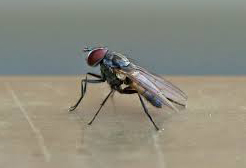house fly: (66, 39, 191, 135)
